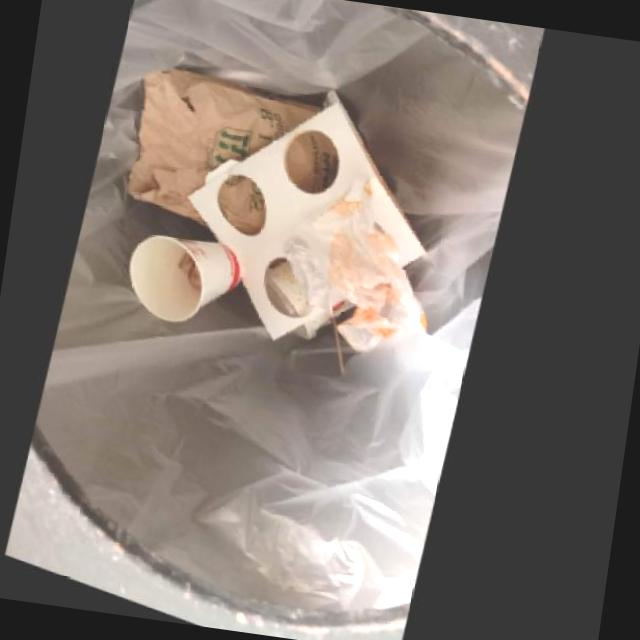carton: (193, 106, 429, 349), (131, 243, 244, 329)
giay: (130, 76, 322, 231), (305, 180, 430, 356), (289, 245, 332, 315)
